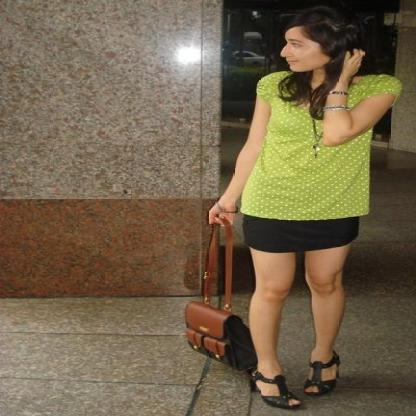bag: (183, 297, 257, 371)
shirt: (240, 71, 400, 220)
shoe: (232, 351, 339, 410)
skirt: (240, 214, 359, 257)
